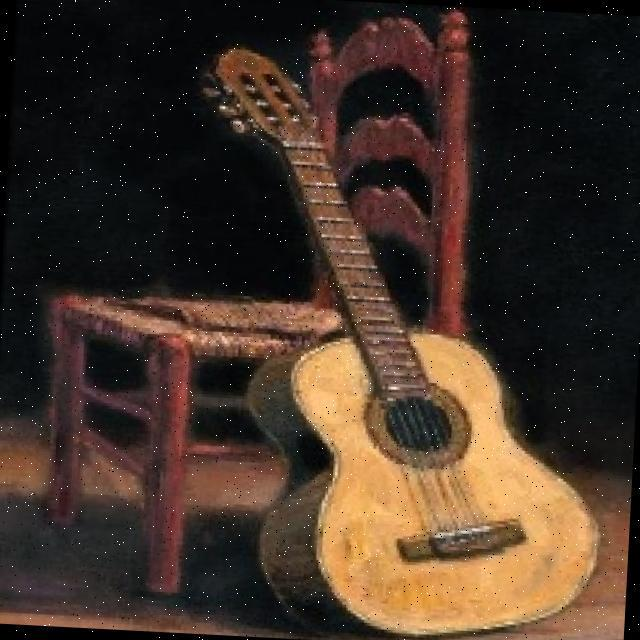acousticguitar: (213, 49, 597, 634)
